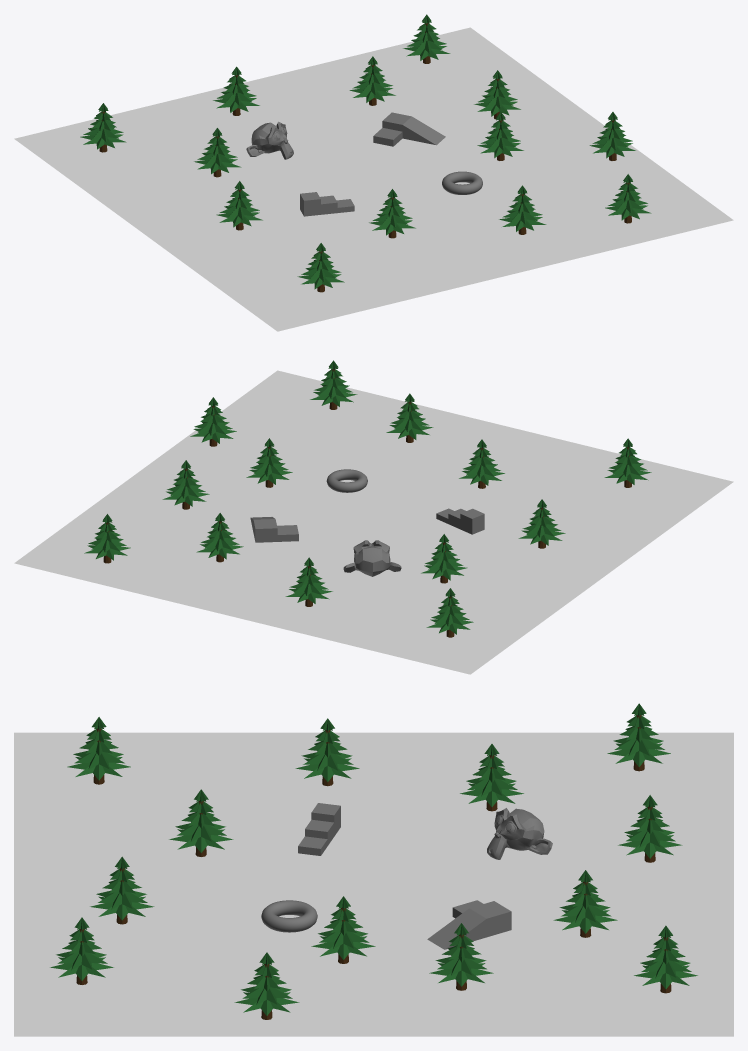
3 views of the same model, one above another, from view 1: azimuth 30°, elevation 25°; view 2: azimuth 150°, elevation 25°; view 3: azimuth 270°, elevation 25° (orthographic). The views are drawn at different scales.
Visible parts, largest first — view 1: Torus.001; view 2: Torus.001; view 3: Torus.001.
Boxes of the visible parts, x1,y1,x2,y2 form: Torus.001: [14, 14, 733, 331]; Torus.001: [14, 360, 733, 674]; Torus.001: [14, 703, 733, 1036].
Size of the model in its own units: 2478 by 251 by 2478.
